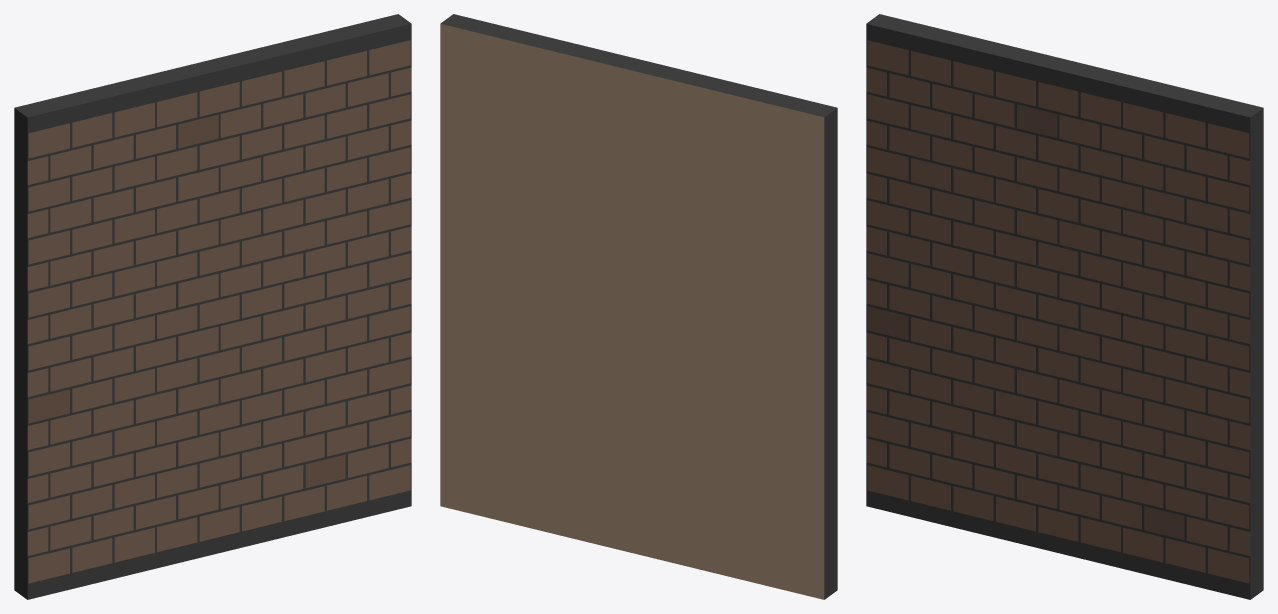
Rendered from Wall3_C10_18.fbx.
The picture shows the model from 3 angles, left to right: view 1: azimuth 30°, elevation 25°; view 2: azimuth 150°, elevation 25°; view 3: azimuth 330°, elevation 25°; orthographic projection.
Visible parts, largest first — view 1: Wall3_C10_18; view 2: Wall3_C10_18; view 3: Wall3_C10_18.
Boxes of the visible parts, x1,y1,x2,y2 form: Wall3_C10_18: (14,14,411,599); Wall3_C10_18: (440,14,837,599); Wall3_C10_18: (866,14,1263,599).
Size of the model in its own units: 250 by 300 by 15.
